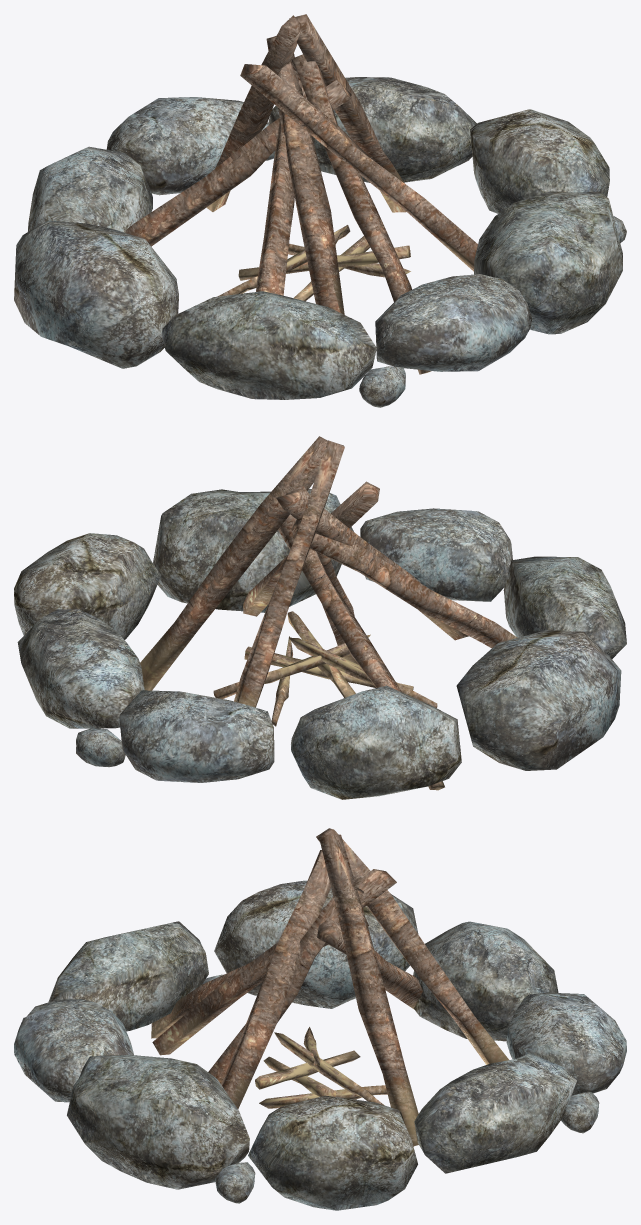
The model's file is bonfire.glb.
The picture shows the model from 3 angles, top to bottom: view 1: azimuth 30°, elevation 25°; view 2: azimuth 150°, elevation 25°; view 3: azimuth 270°, elevation 25°; orthographic projection. The views are drawn at different scales.
Visible parts, largest first — view 1: Koster_low_Koster1_0; view 2: Koster_low_Koster1_0; view 3: Koster_low_Koster1_0.
Boxes of the visible parts, bbox=[...] form: Koster_low_Koster1_0: bbox=[14, 14, 626, 407]; Koster_low_Koster1_0: bbox=[14, 436, 626, 799]; Koster_low_Koster1_0: bbox=[14, 828, 626, 1210].
Bounding box in the file's own units: 1.33 × 0.7051 × 1.3.
Materials: 1 (1 with a texture image).
